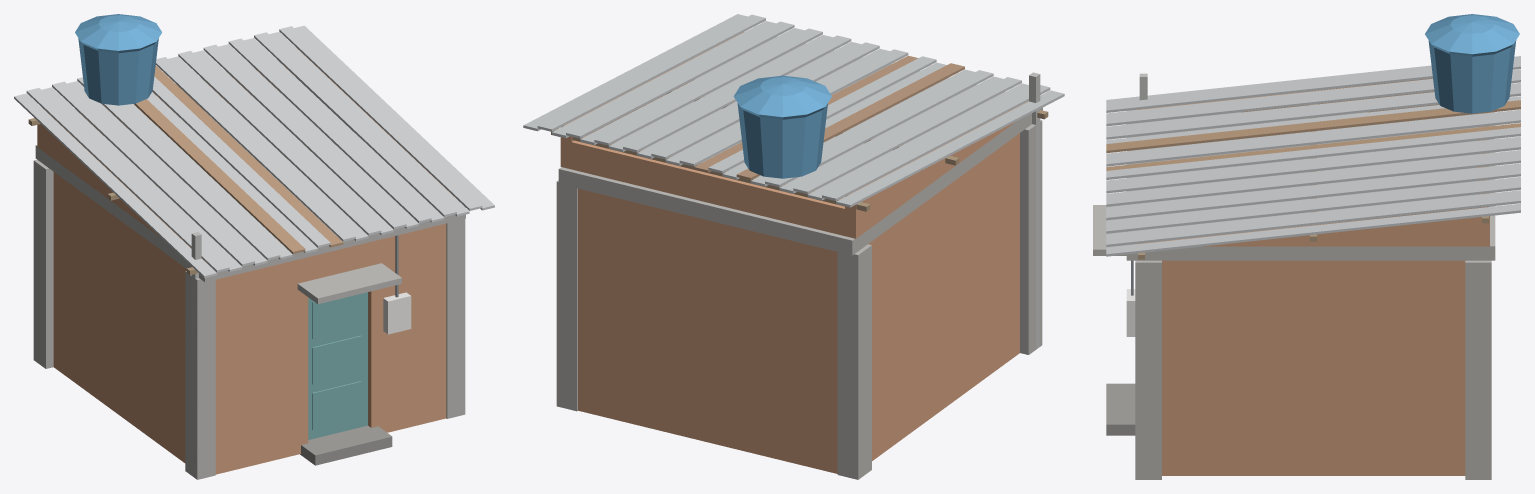
The picture shows the model from 3 angles, left to right: view 1: azimuth 30°, elevation 25°; view 2: azimuth 150°, elevation 25°; view 3: azimuth 270°, elevation 25°; orthographic projection. The views are drawn at different scales.
Visible parts, largest first — view 1: fv_h03; view 2: fv_h03; view 3: fv_h03.
Boxes of the visible parts, bbox=[...] form: fv_h03: bbox=[14, 14, 494, 479]; fv_h03: bbox=[523, 14, 1064, 479]; fv_h03: bbox=[1093, 14, 1520, 479].
Size of the model in its own units: 4.14 by 4.47 by 4.85.
